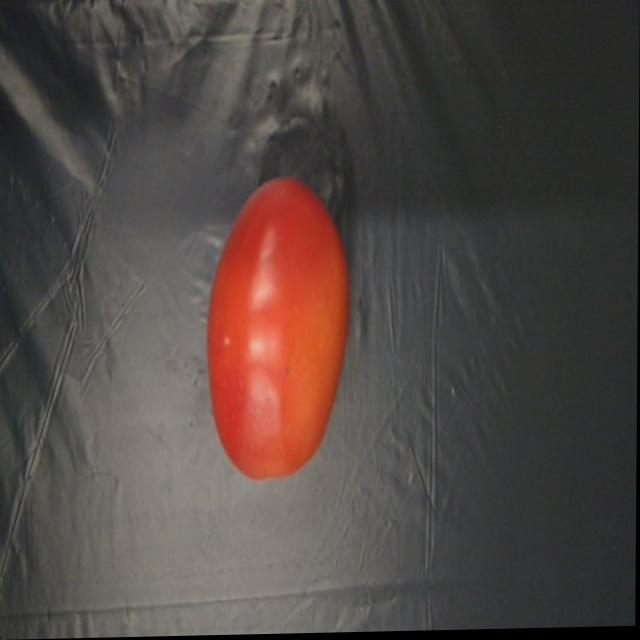kirmizi: (214, 158, 355, 478)
